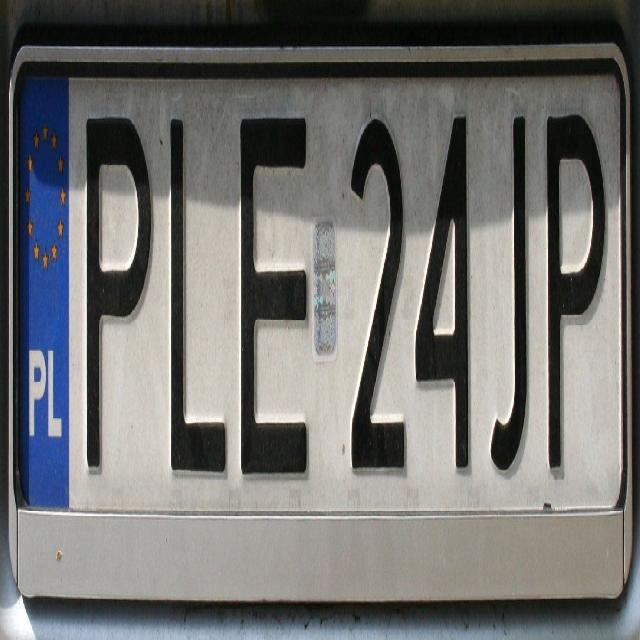pl_license_plate: (18, 67, 621, 510)
